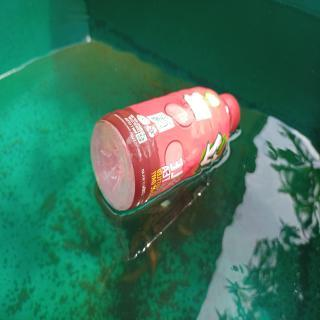bottle: (90, 84, 239, 214)
